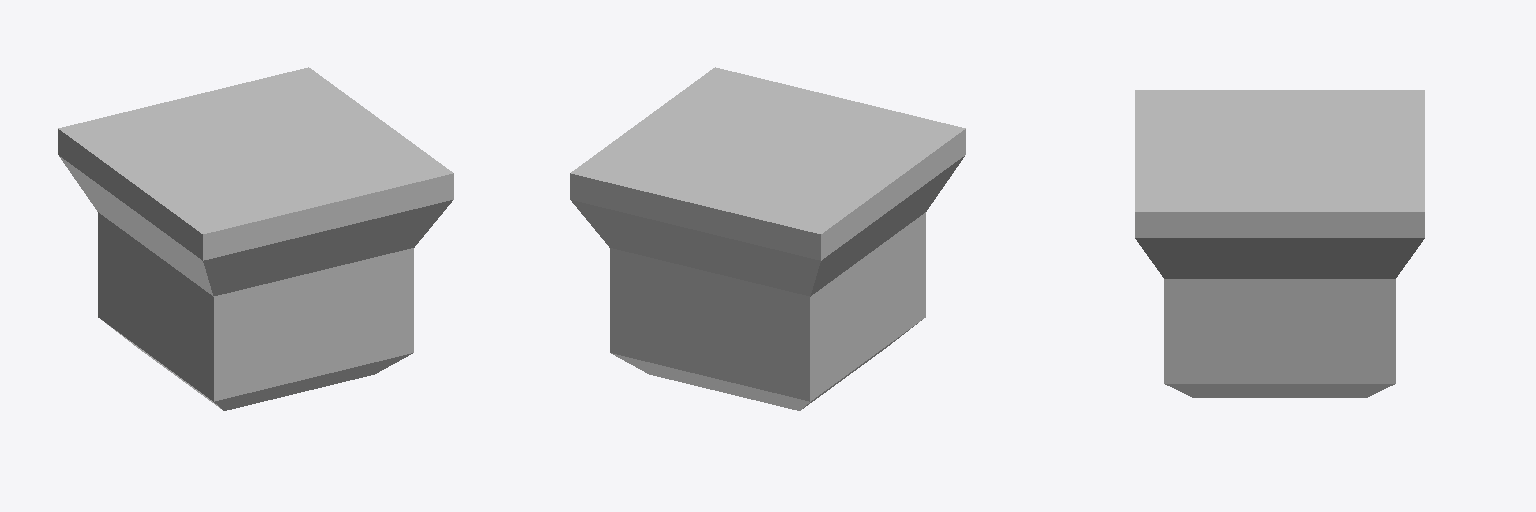
File: Column_Top_Type1.obj
The picture shows the model from 3 angles: view 1: azimuth 30°, elevation 25°; view 2: azimuth 150°, elevation 25°; view 3: azimuth 270°, elevation 25°; orthographic projection.
Parts seen in each view (by area): view 1: Column_Top_Type1_Cube.051; view 2: Column_Top_Type1_Cube.051; view 3: Column_Top_Type1_Cube.051.
Boxes of the visible parts, box(x1,y1,x2,y2) form: Column_Top_Type1_Cube.051: box(58, 67, 453, 410); Column_Top_Type1_Cube.051: box(570, 67, 965, 410); Column_Top_Type1_Cube.051: box(1135, 90, 1424, 397).
Bounding box in the file's own units: 0.625 × 0.5 × 0.625.